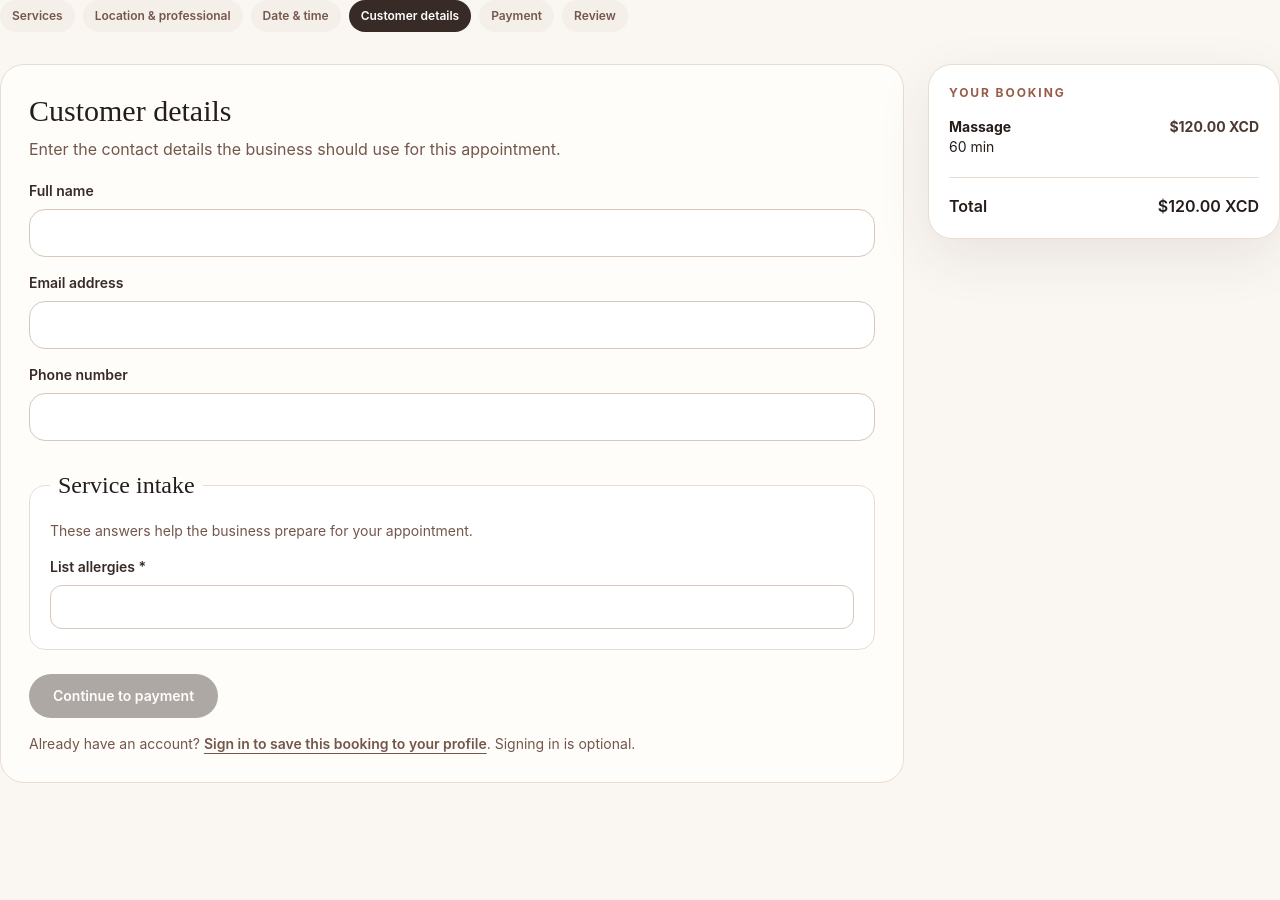
Test: BookingFlow › requires configured intake answers and sensitive consent before payment
In the field labelled "Full name": point(452, 233) [29, 209, 875, 257], type "Guest Customer"
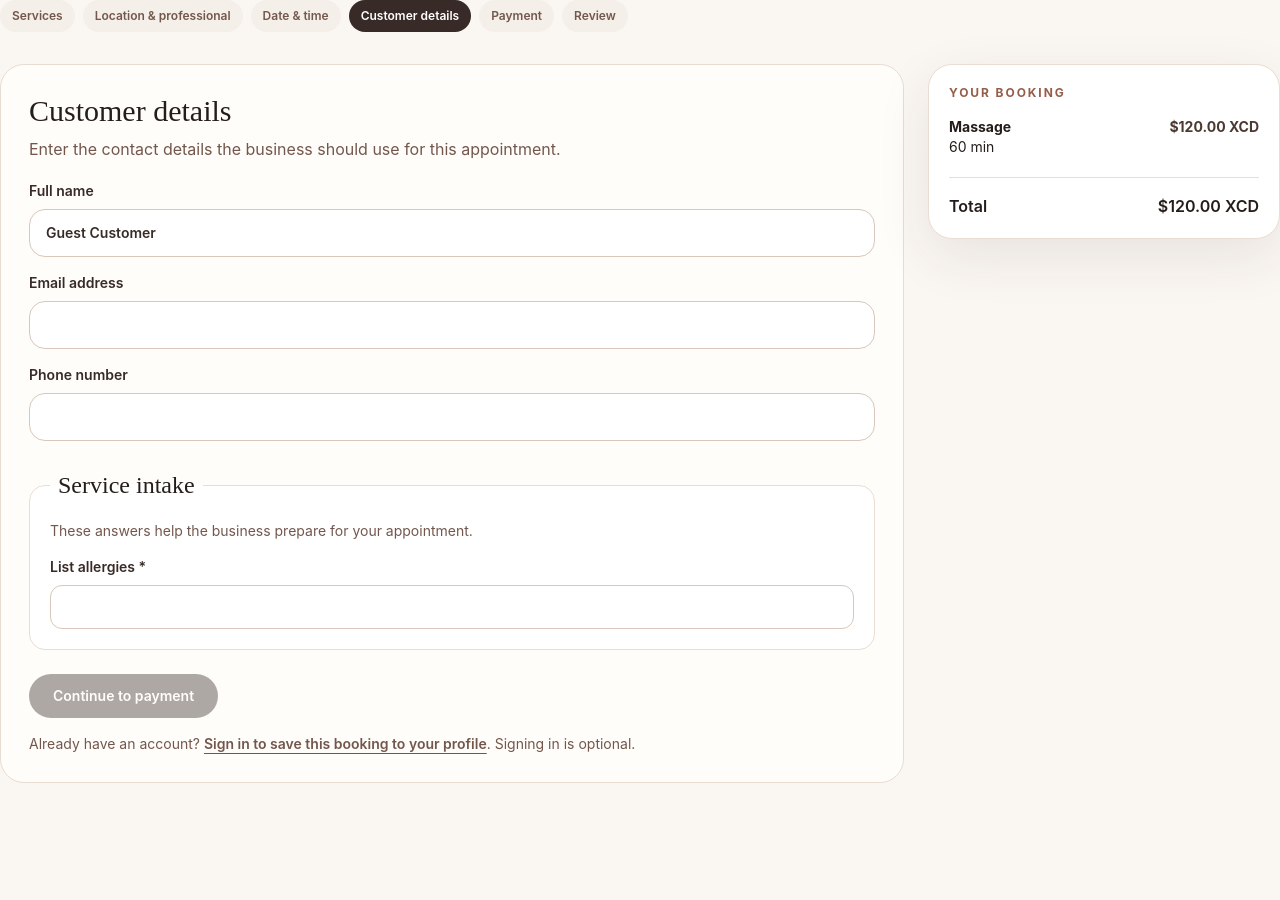
In the field labelled "Email address": point(452, 325) [29, 301, 875, 349], type "guest@example.com"
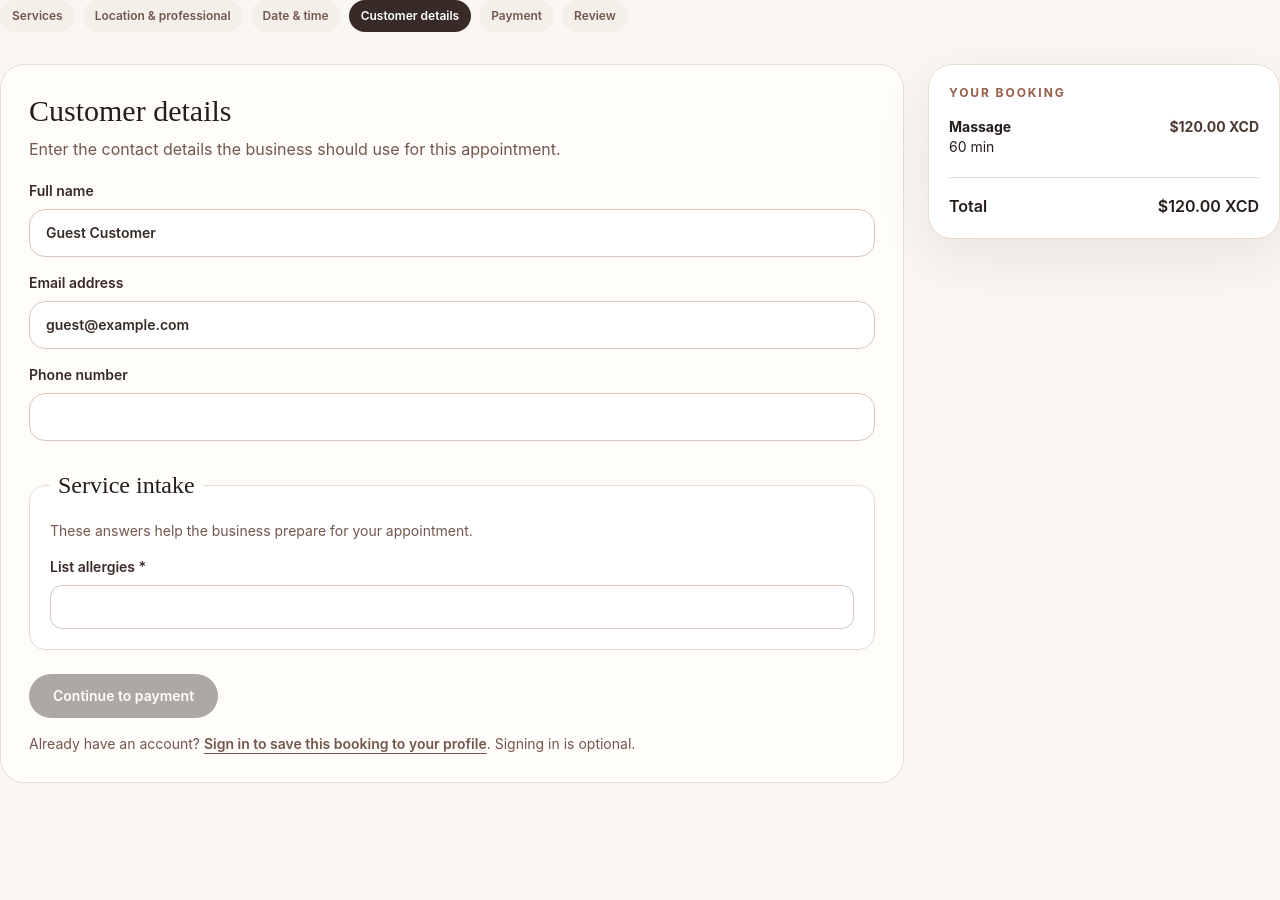
In the field labelled "Phone number": point(452, 417) [29, 393, 875, 441], type "+1 758 555 0101"
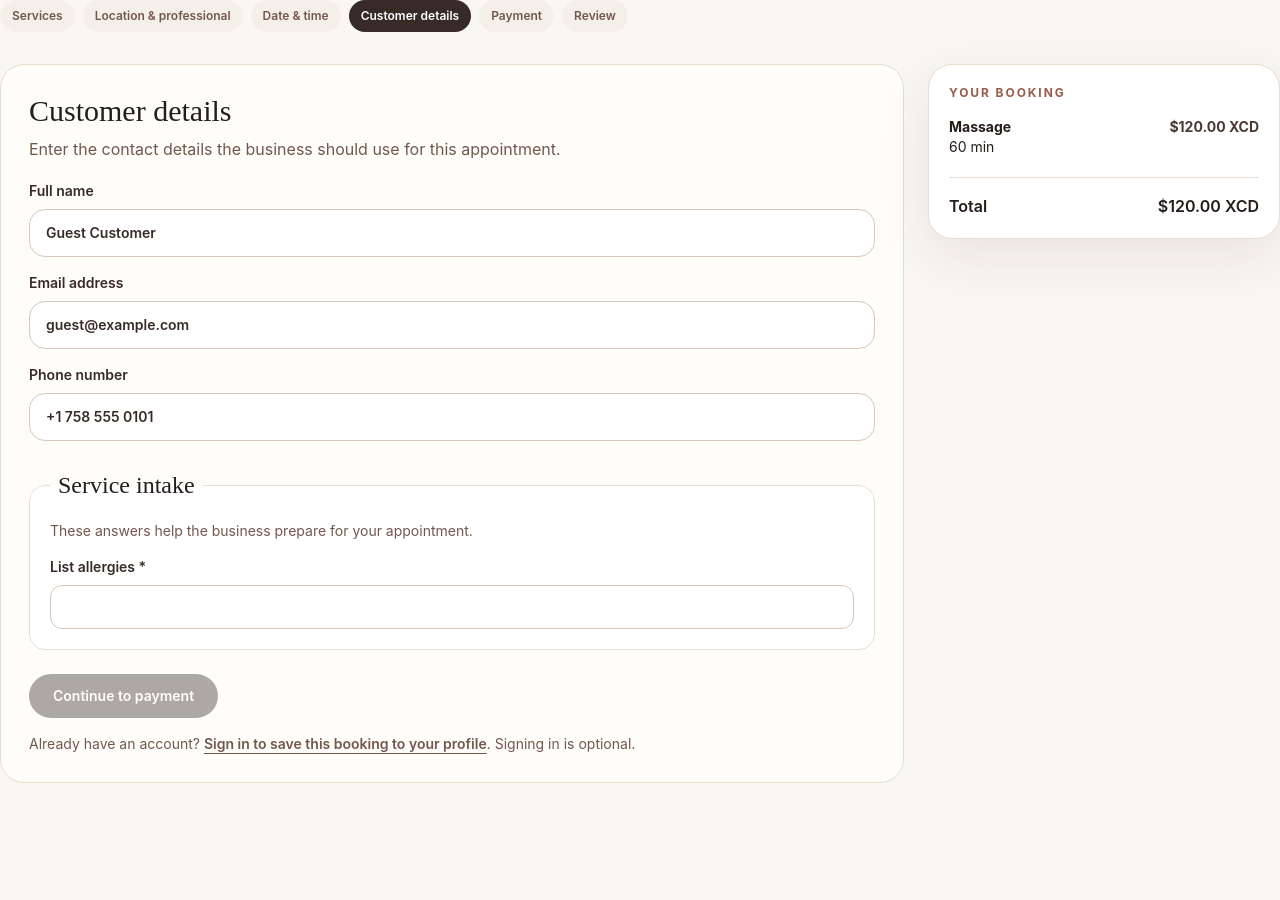
Expected: the button "Continue to payment" is disabled, [29, 674, 218, 718]
In the field labelled "List allergies *": point(452, 607) [50, 585, 854, 629], type "Latex"
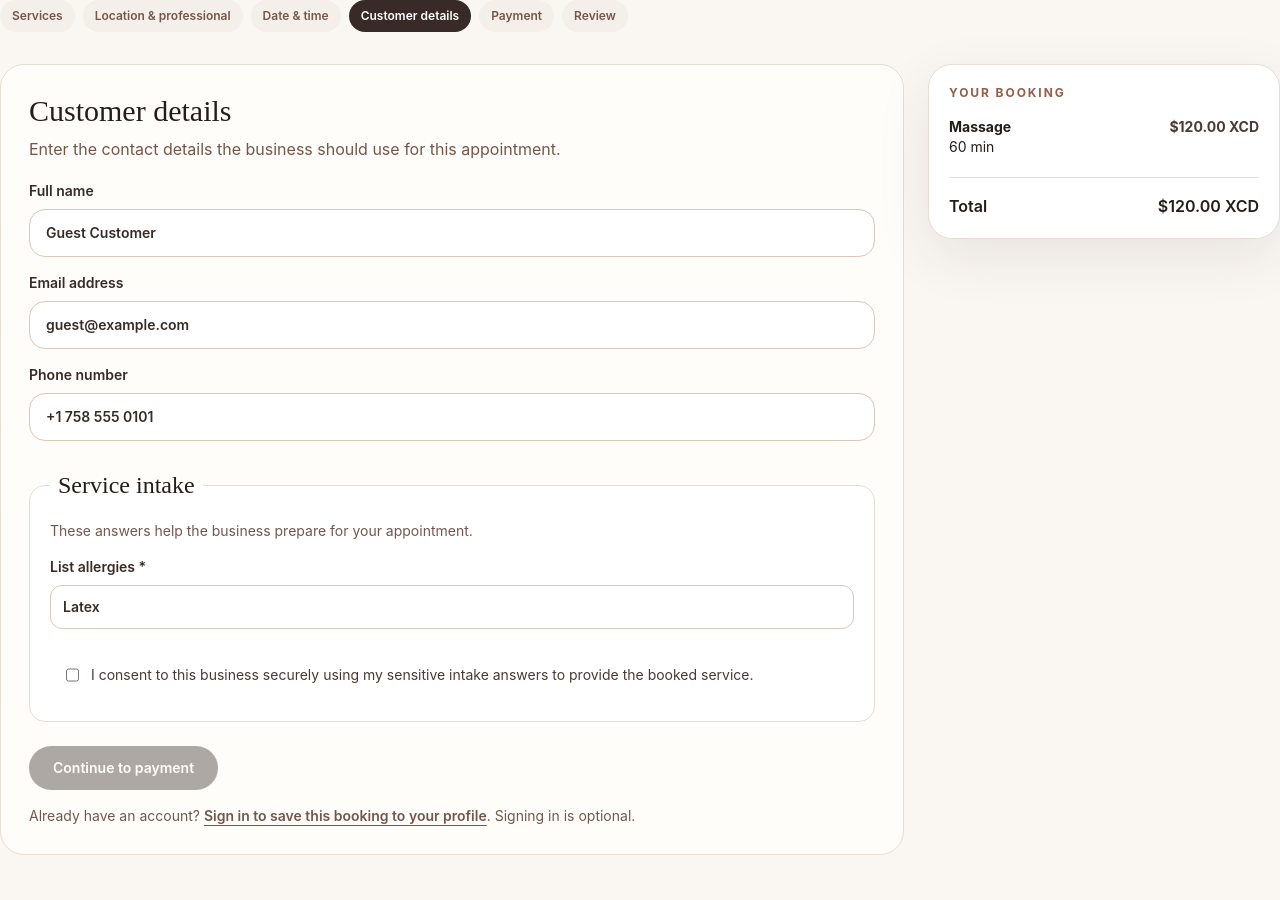
Expected: the button "Continue to payment" is disabled, [29, 746, 218, 790]
Click the checkbox labelled "I consent": point(72, 675) [66, 665, 79, 685]
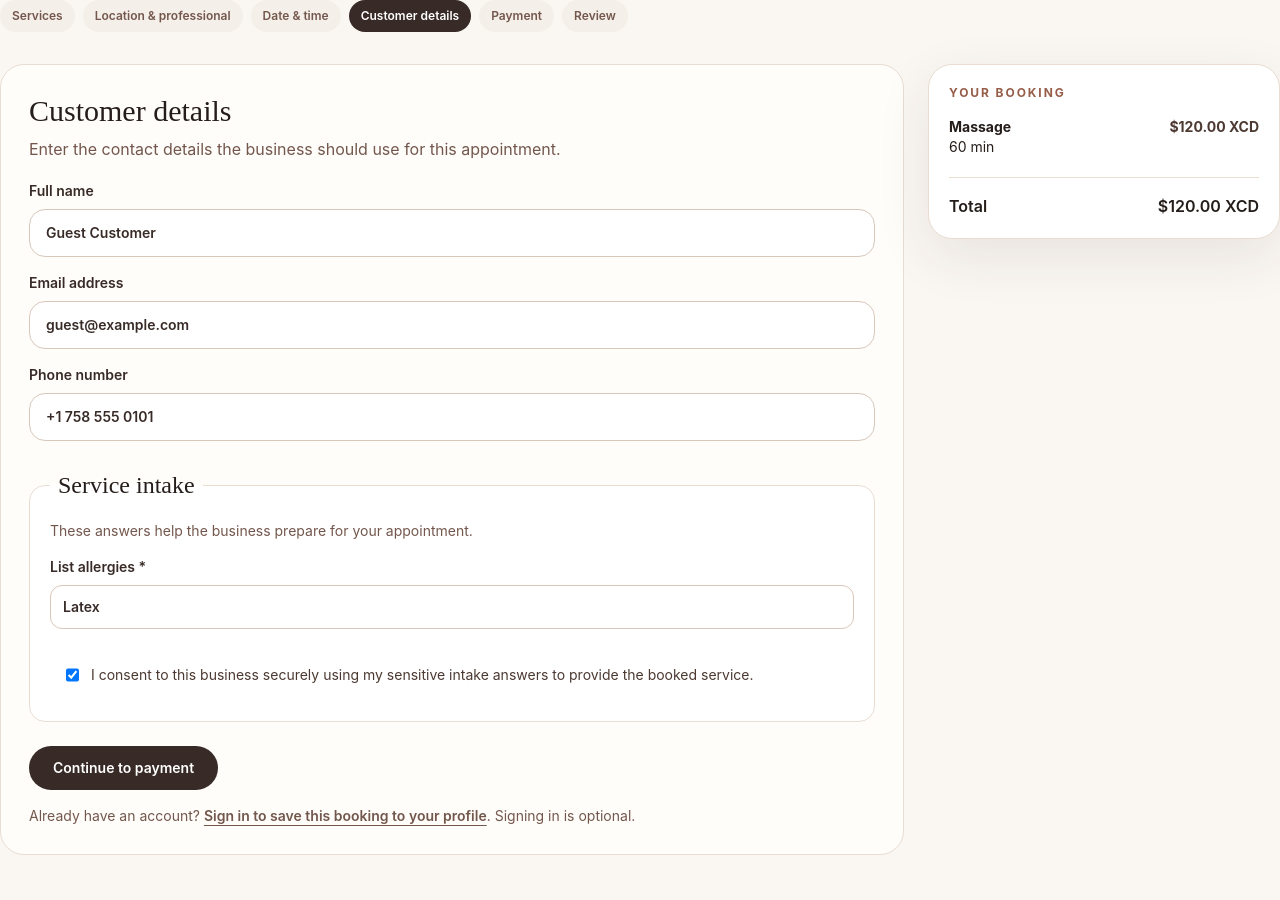
Expected: the button "Continue to payment" is enabled, [29, 746, 218, 790]
